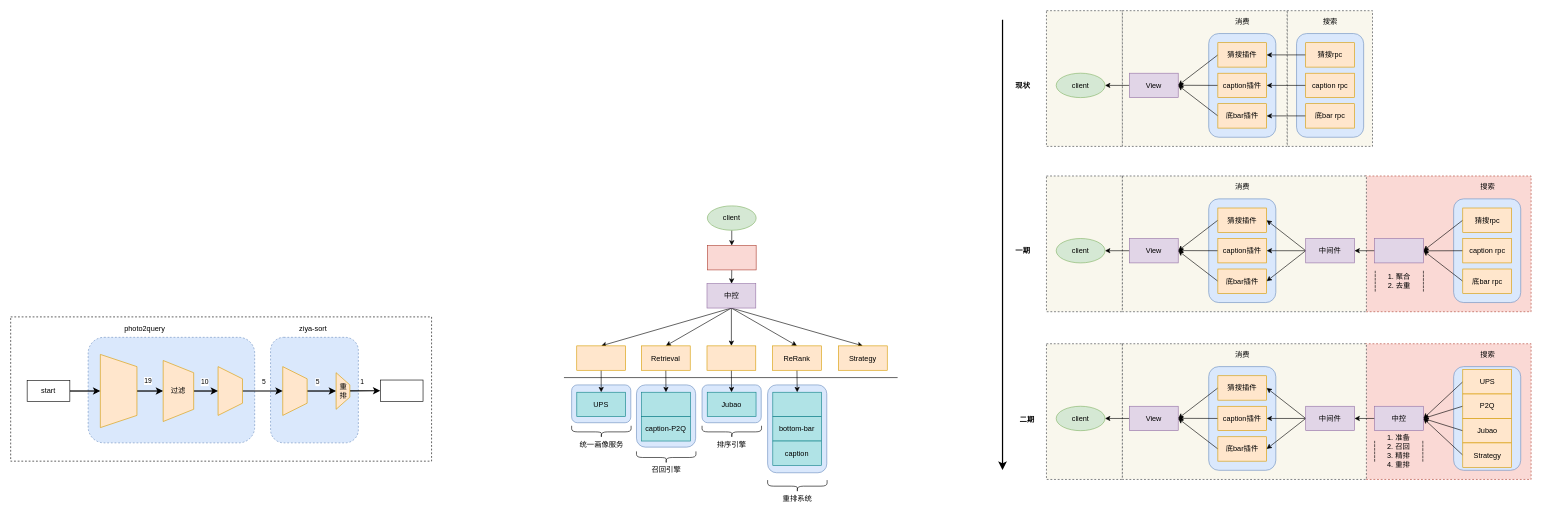
This 1542x513 diagram has some shape labels left out. Here are the shapes that lost their labels. From the top down, the box of each, then its label:
(707, 245, 756, 270): Server
(1374, 238, 1423, 263): se proxy
(576, 345, 626, 370): Prepare
(706, 345, 756, 370): Rank
(100, 354, 137, 428): 召回
(217, 366, 242, 415): 粗排
(282, 366, 307, 415): 精排
(380, 379, 423, 401): end
(641, 392, 690, 417): cmtgys-P2Q
(772, 392, 822, 417): cmt-gys
